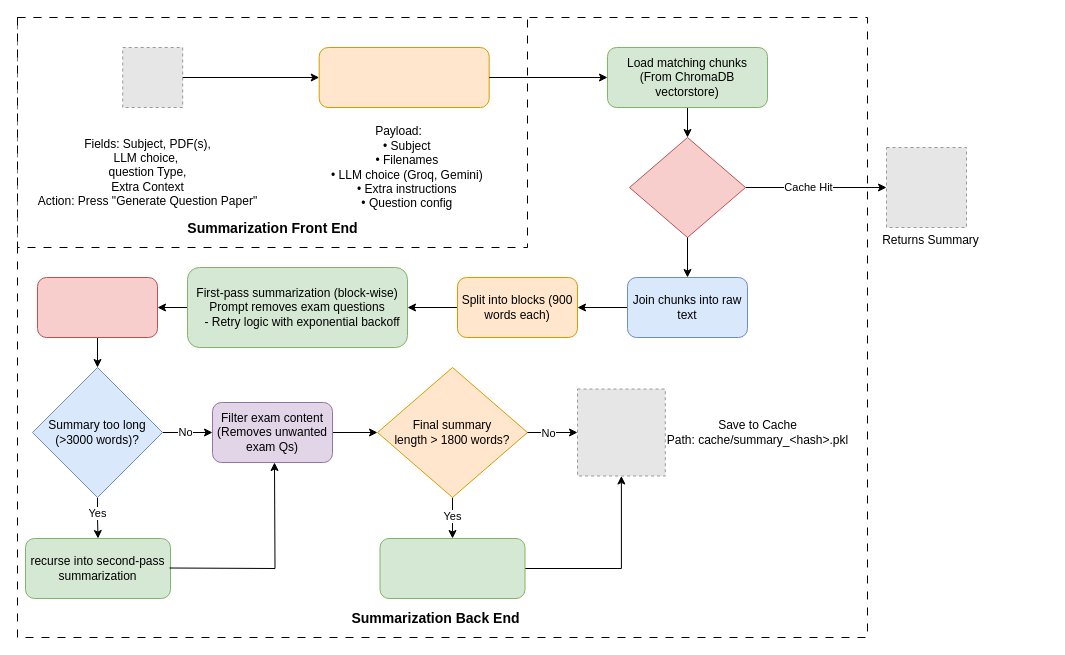
Some shapes in this 1065 by 655 pixel diagram are drawn without their labels. Grey dashed boxes stand in for pictures. Here are the shapes that lost their labels. From the top down, the centre of each, then its label:
At point (403, 77): "Trigger API: - POST /generate-question-paper/".
At point (687, 187): "Check summary cache".
At point (97, 307): "Combine block summaries".
At point (452, 568): "Truncate the content safely".
